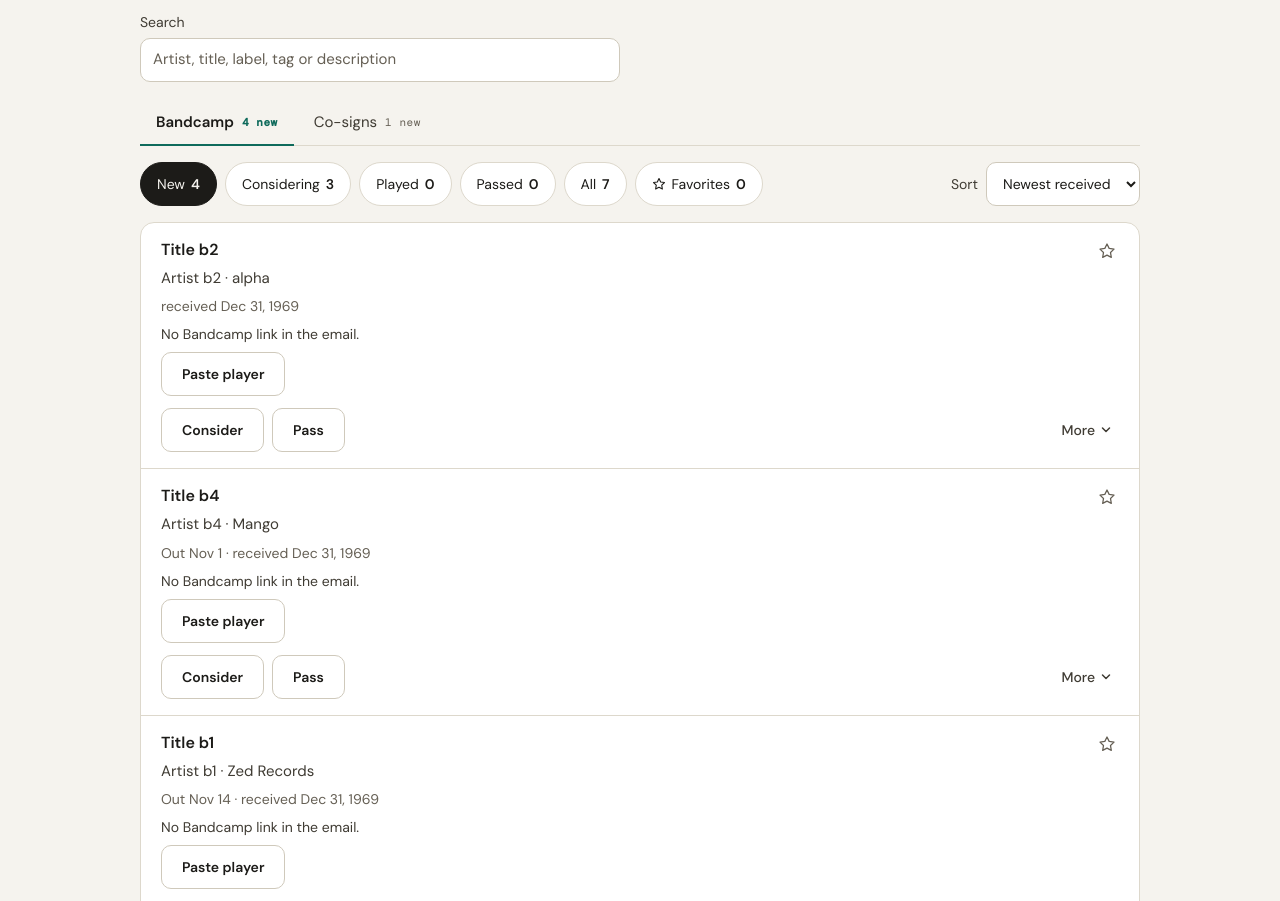
Scenario: sort › All: each block names its status
Click the button "All 7" at (595, 184), box [564,162,627,206]
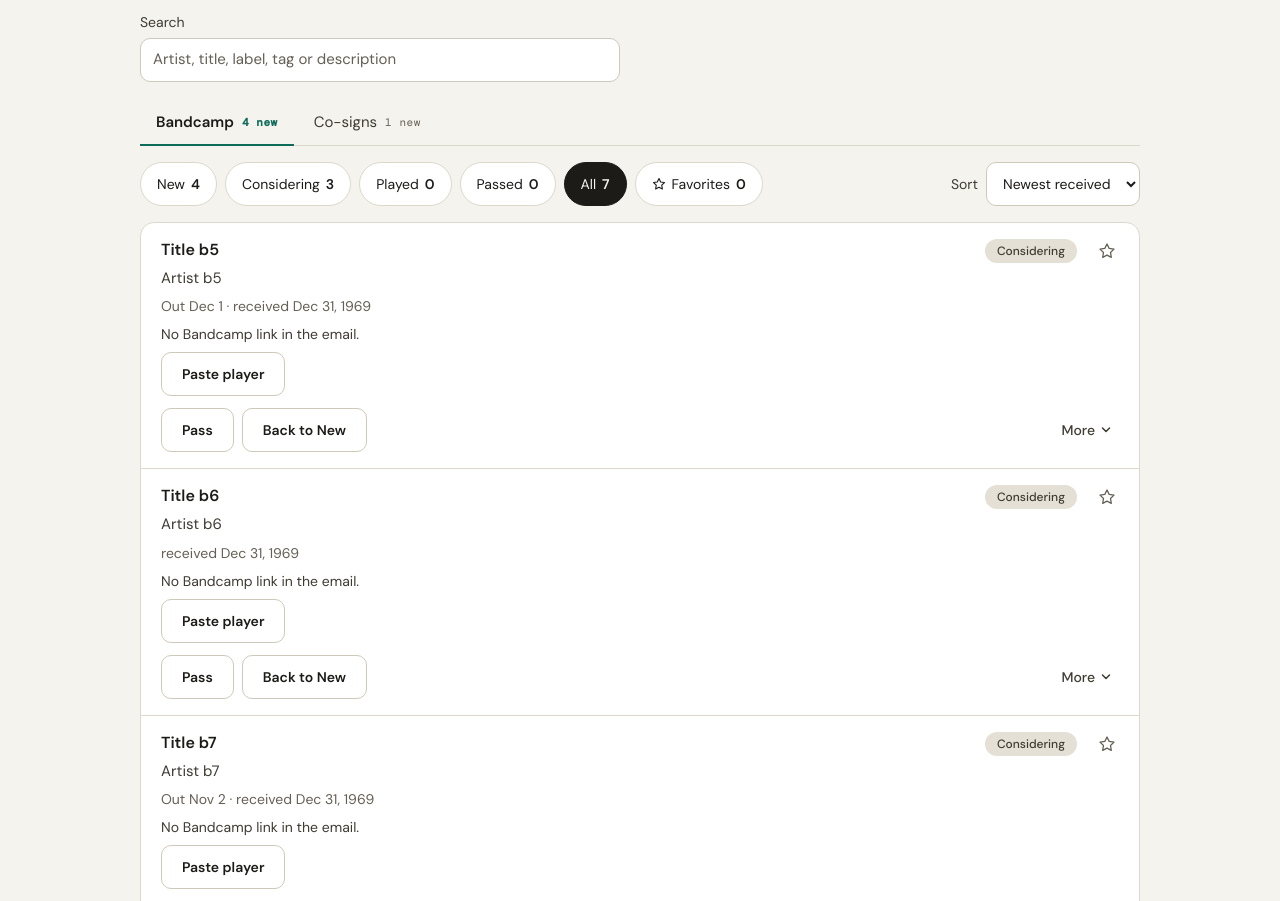
expect the text "Considering" is shown 3 times: met, box [985,239,1077,263]; [985,485,1077,509]; [985,732,1077,756]
